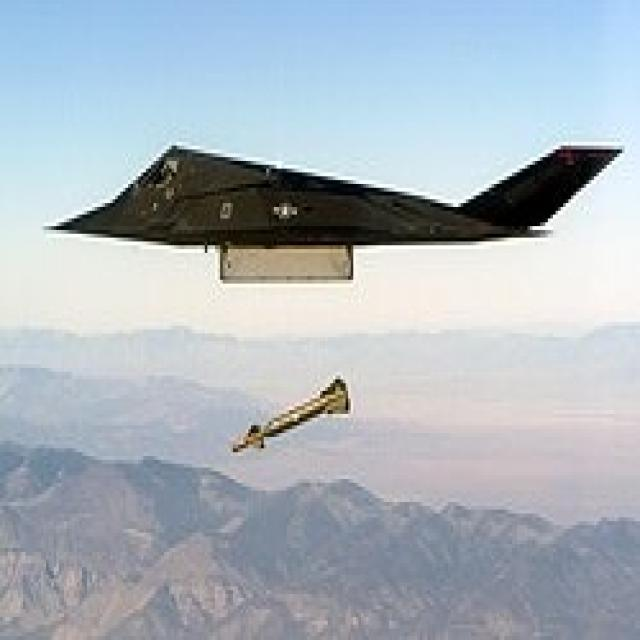F117: (24, 116, 640, 318)
